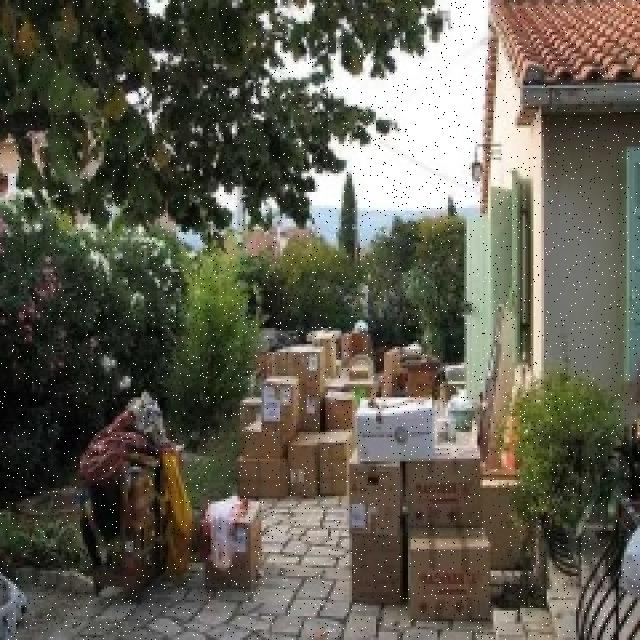box: (402, 534, 490, 616), (358, 384, 444, 461), (398, 451, 480, 527), (476, 477, 534, 561), (201, 504, 252, 592), (348, 462, 399, 538), (352, 534, 400, 600), (378, 352, 432, 404), (272, 342, 324, 388), (236, 422, 286, 462), (286, 434, 316, 495), (234, 458, 285, 493), (320, 428, 345, 497), (262, 376, 292, 424), (320, 395, 357, 430), (240, 395, 262, 426), (340, 336, 364, 354)
